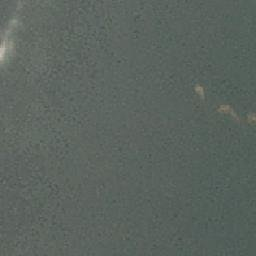cloud: (1, 5, 27, 61)
debris: (216, 106, 238, 119), (194, 84, 204, 101), (248, 110, 256, 128)
